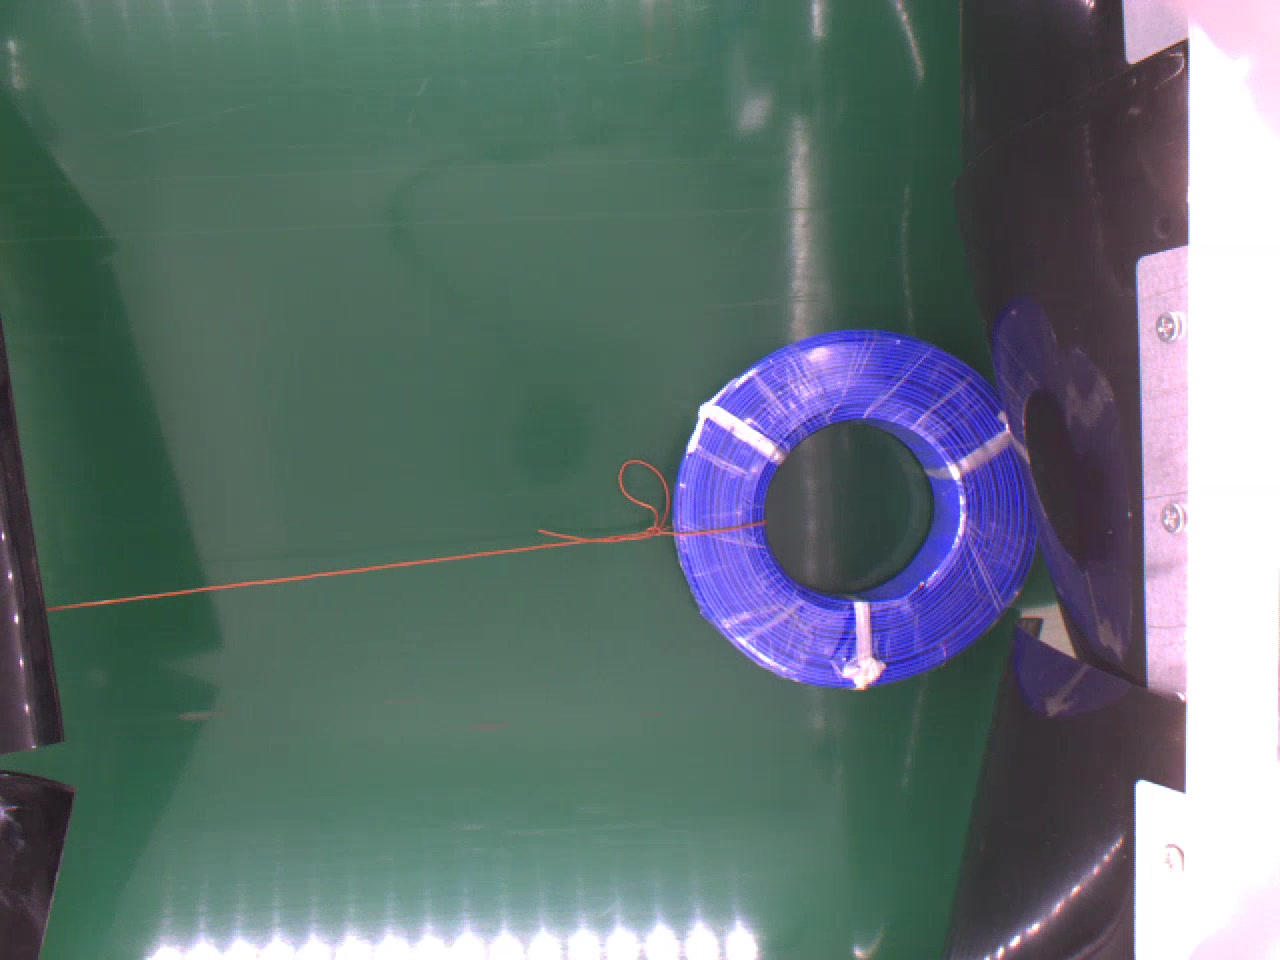blue: (673, 324, 1045, 692)
